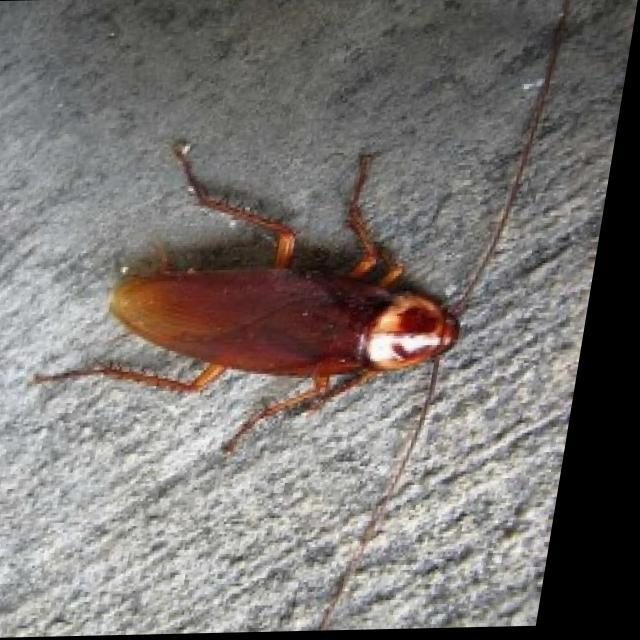cockroach: (35, 237, 517, 448)
